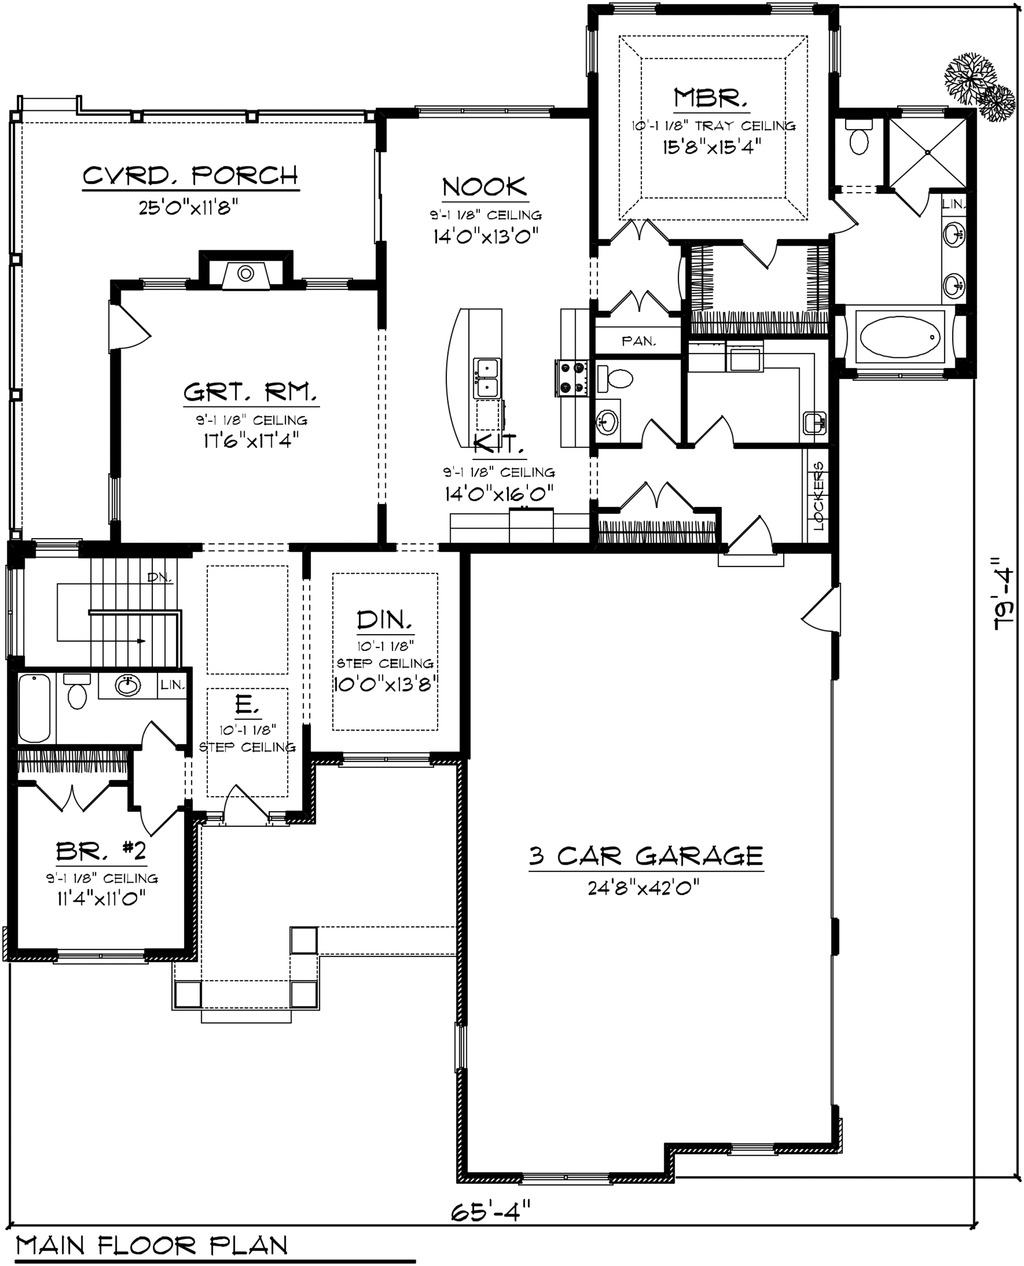door: (92, 288, 156, 367), (607, 476, 714, 518), (596, 280, 688, 328), (601, 208, 696, 251), (797, 570, 855, 639), (730, 512, 782, 578), (223, 778, 282, 833), (34, 780, 119, 818), (693, 409, 755, 458), (802, 195, 860, 241), (142, 803, 202, 846), (134, 716, 193, 755), (638, 414, 686, 455), (882, 184, 930, 218), (742, 237, 782, 275)
kitchen_bar: (435, 287, 528, 467)
large_sink: (581, 349, 638, 399), (835, 116, 878, 160), (59, 669, 97, 708)
small_sink: (932, 196, 976, 316), (103, 674, 180, 696), (594, 396, 624, 446)
stairs: (23, 558, 193, 664)
tub: (19, 669, 55, 755)
twin_sink: (465, 355, 507, 408)
window: (52, 942, 167, 972), (293, 266, 368, 304), (97, 462, 138, 531), (510, 1162, 624, 1185), (715, 1129, 781, 1167), (23, 531, 88, 566), (447, 1005, 469, 1084)
